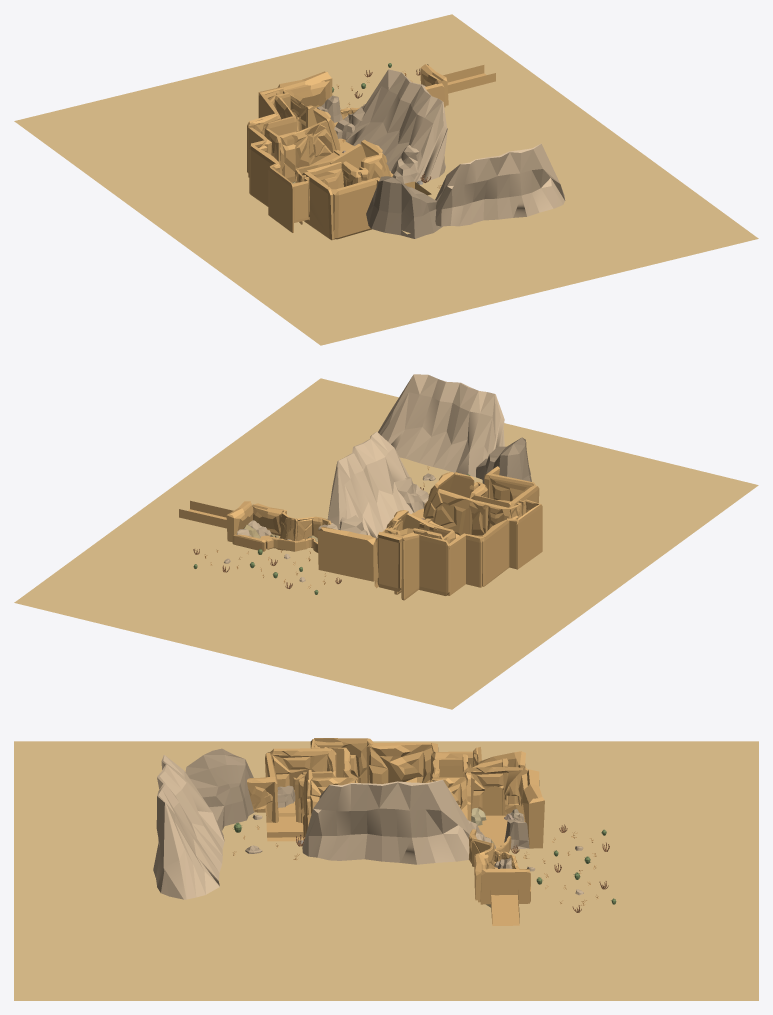
File: DesertDetailed.fbx
3 views of the same model, one above another, from view 1: azimuth 30°, elevation 25°; view 2: azimuth 150°, elevation 25°; view 3: azimuth 270°, elevation 25° (orthographic). The views are drawn at different scales.
Parts seen in each view (by area): view 1: Plane.004, Hill_desert_003.002, Hill_desert_003.001, Plane, Stone_mid_001.010, Cube.018, Cube.017, Cube.025, Cube.006, Cube.030, Cube, Cube.033 (+7 smaller); view 2: Plane.004, Hill_desert_003.002, Hill_desert_003.001, Plane, Cube.006, Plane.006, Plane.005, Cube.036, Stone_mid_001.010, Cube.030, Cube.045, Cube.039 (+11 smaller); view 3: Plane.004, Plane, Hill_desert_003.001, Hill_desert_003.002, Stone_mid_001.010, Plane.006, Plane.005, Cube.030, Cube.017, Cube.050, Cube, Cube.041 (+11 smaller).
Part boxes in pixels (x1,y1,x2,y2): Plane.004: (14, 14, 758, 345); Hill_desert_003.002: (435, 143, 565, 226); Hill_desert_003.001: (345, 69, 447, 182); Plane: (415, 103, 592, 231); Stone_mid_001.010: (366, 176, 442, 238); Cube.018: (326, 178, 376, 239); Cube.017: (302, 172, 334, 240); Cube.025: (268, 166, 293, 232); Cube.006: (277, 71, 331, 119); Cube.030: (249, 145, 282, 206); Cube: (285, 65, 495, 131); Cube.033: (301, 120, 339, 164); Plane.004: (14, 378, 758, 709); Hill_desert_003.002: (378, 374, 504, 476); Hill_desert_003.001: (327, 431, 413, 539); Plane: (265, 422, 450, 519); Cube.006: (317, 526, 378, 581); Plane.006: (168, 525, 276, 576); Plane.005: (243, 548, 337, 591); Cube.036: (419, 535, 449, 595); Stone_mid_001.010: (476, 437, 531, 483); Cube.030: (481, 519, 509, 586); Cube.045: (424, 489, 472, 535); Cube.039: (377, 532, 402, 591); Plane.004: (14, 741, 758, 1000); Plane: (144, 841, 477, 906); Hill_desert_003.001: (302, 779, 472, 864); Hill_desert_003.002: (153, 755, 224, 899); Stone_mid_001.010: (185, 748, 254, 830); Plane.006: (519, 880, 606, 922); Plane.005: (508, 838, 598, 879); Cube.030: (369, 742, 432, 783); Cube.017: (271, 748, 336, 792); Cube.050: (462, 767, 527, 815); Cube: (463, 774, 527, 925); Cube.041: (480, 868, 530, 904).
Bounding box in the file's own units: 26544 × 6167 × 32187.
